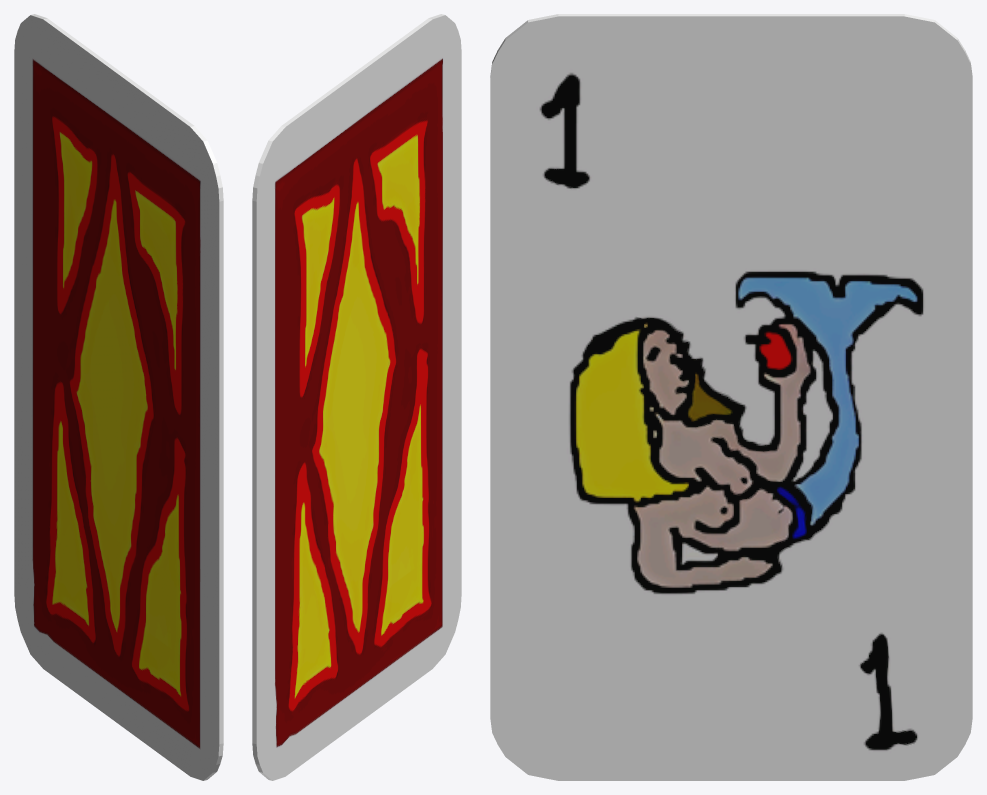
Rendered from Card.glb.
3 renders of one model, left to right at view 1: azimuth 30°, elevation 25°; view 2: azimuth 150°, elevation 25°; view 3: azimuth 270°, elevation 25°, orthographic. The views are drawn at different scales.
Parts seen in each view (by area): view 1: Card; view 2: Card; view 3: Card.
Boxes of the visible parts, box(x1,y1,x2,y2) form: Card: box(14, 14, 223, 780); Card: box(252, 14, 461, 780); Card: box(490, 14, 972, 780).
Size of the model in its own units: 1.62 by 232 by 133.
Materials: 1 (1 with a texture image).
